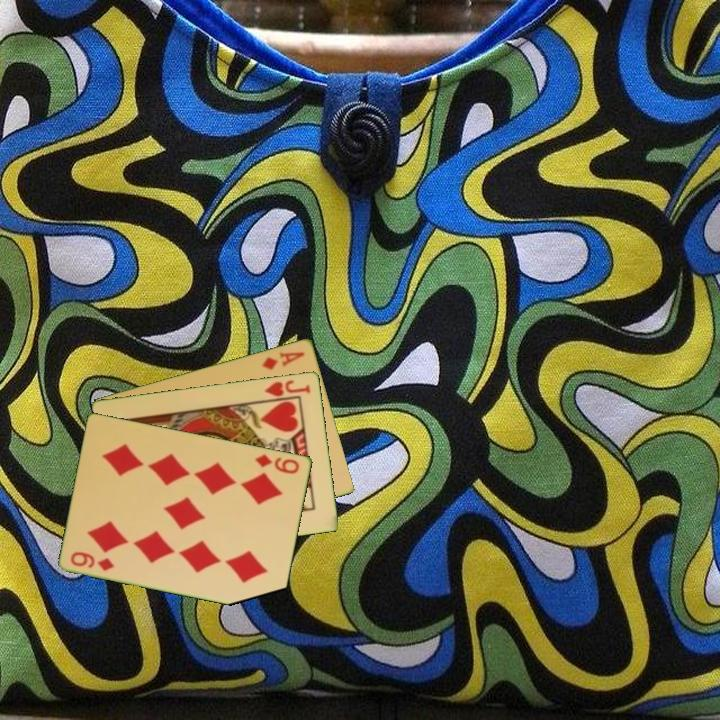9d: (252, 450, 303, 477), (67, 548, 117, 574)
Ad: (259, 348, 308, 373)
Jh: (261, 376, 313, 399)
